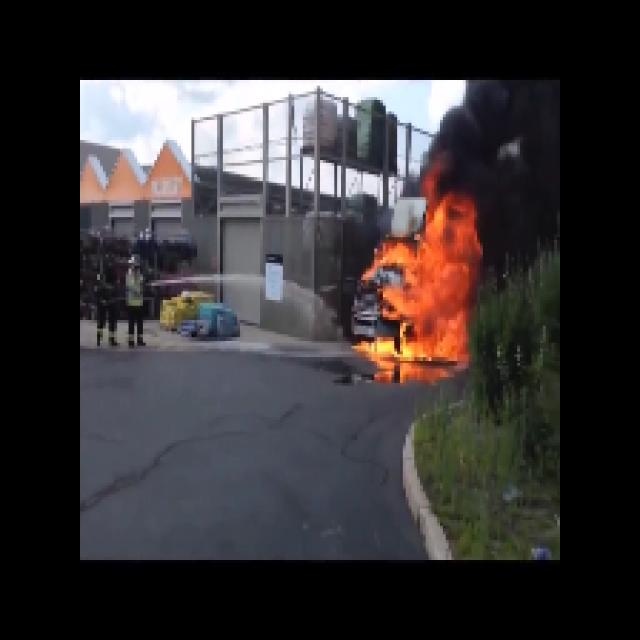fire: (396, 210, 468, 362)
smoke: (475, 93, 555, 244)
